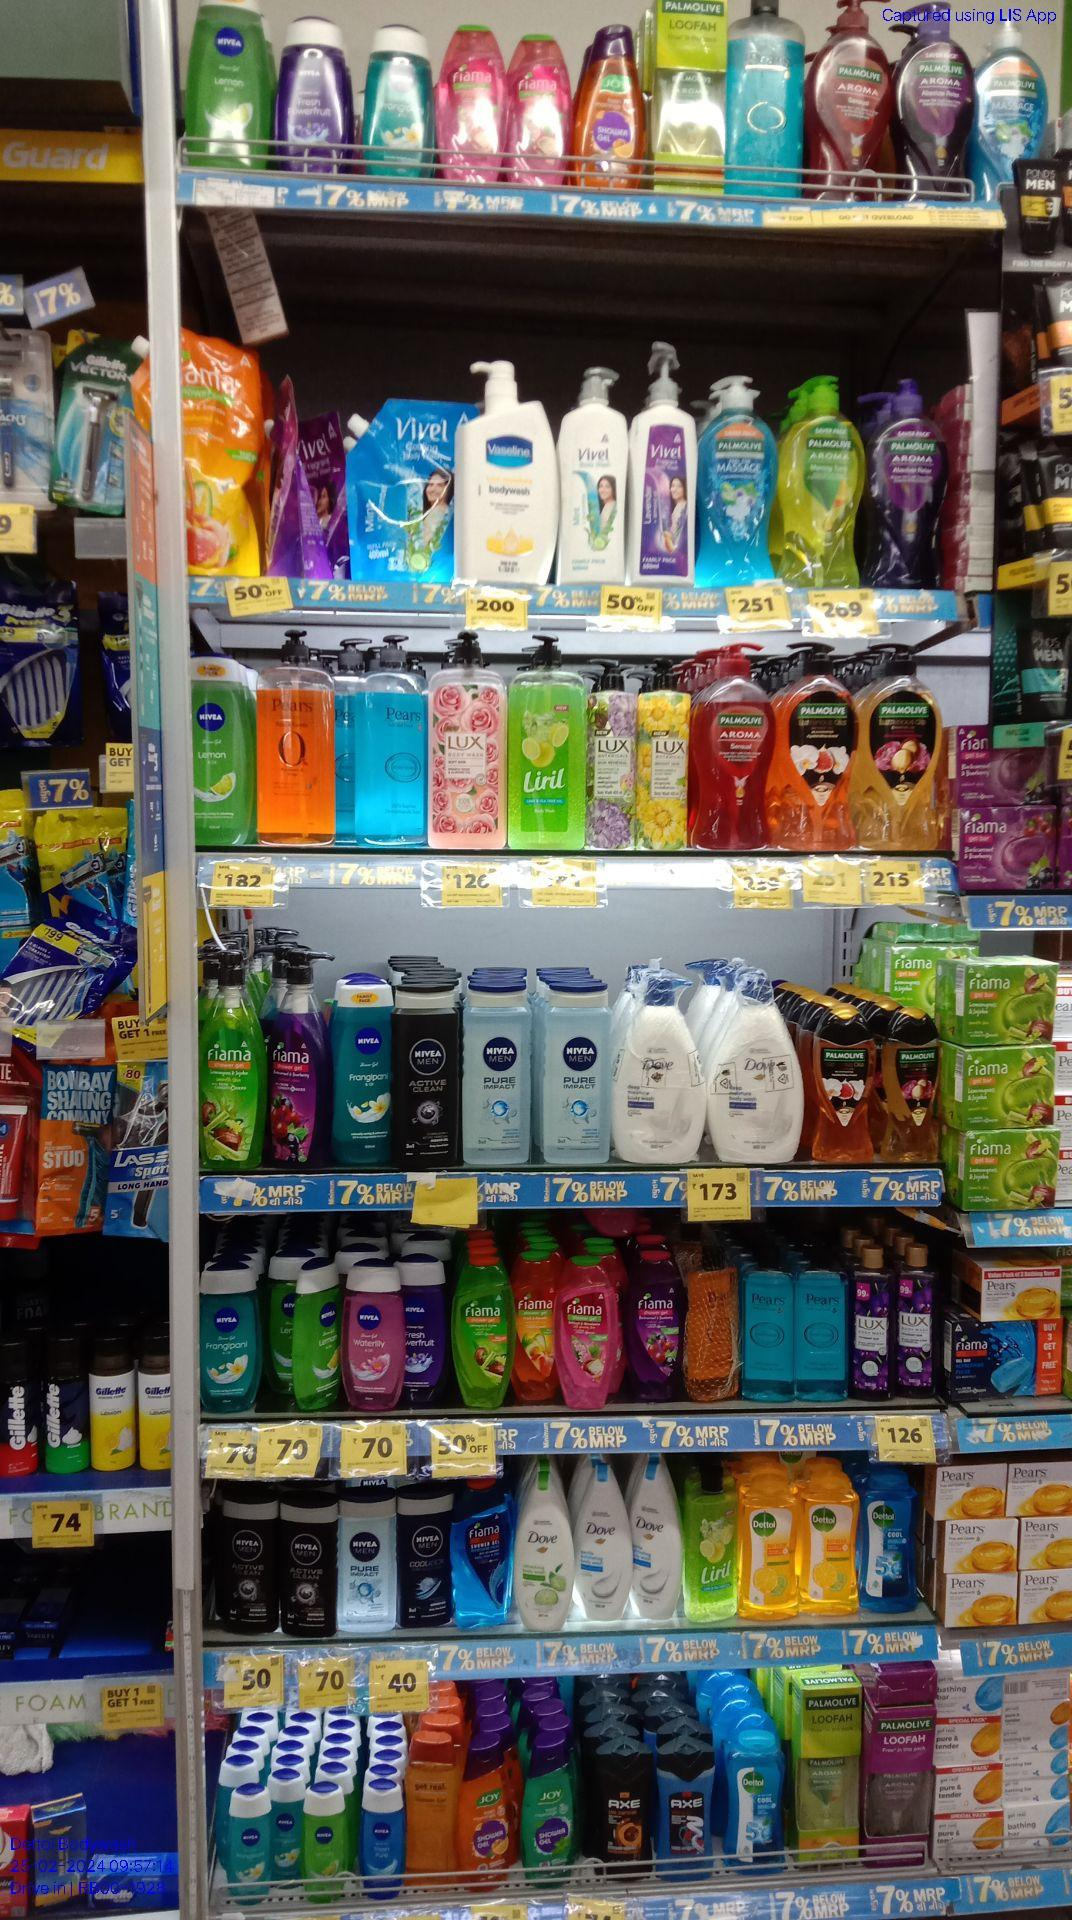Dettol_Bodywash_Cool: (730, 1733, 786, 1873), (862, 1472, 915, 1610)
Dettol_Bodywash_Refresh: (745, 1480, 802, 1622), (804, 1472, 857, 1617)
Dove_Gentle_Exfoliating_Body_Wash_250ML: (579, 1473, 632, 1621), (636, 1468, 680, 1621)
Dove_Refreshing_Body_Wash_250ML: (518, 1482, 574, 1631)
Fiama_Shower_Gel_Lemongrass_and_Jojoba_250ML: (455, 1262, 509, 1408)
Fiama_Shower_Gel_Patchouli_and_Macadamia_250ML: (506, 33, 572, 186), (439, 26, 504, 181), (551, 1259, 609, 1408)
Joy_Shower_Gel_Mandarin_and_Lemongrass_250ML: (580, 28, 645, 191)
Liril_Lime_and_Tea_Tree_Oil_Body_Wash_250ML: (686, 1469, 733, 1621)
Lux_Black_Orchid_Scent_and_Juniper_Oil_Body_Wash_245ML: (852, 1250, 895, 1400), (899, 1245, 936, 1400)
Nivea_Shower_Gel_Frangipani_and_Oil_250ML: (367, 24, 431, 181), (336, 985, 393, 1162), (200, 1266, 258, 1411)
Nivea_Shower_Gel_Fresh_Powerfruit_250ML: (277, 18, 345, 174)
Nivea_Shower_Gel_Lemon_and_Oil_250ML: (186, 0, 272, 167)
Nivea_Shower_Gel_Waterlily_and_Oil_250ML: (345, 1271, 401, 1407)
Palmolive_Luminous_Oils_Invigorating_Macadamia_Oil_With_Peony_250ML: (889, 1013, 941, 1166)
Palmolive_Luminous_Oils_With_White_Orchid_Shower_Gel_250ML: (815, 1015, 876, 1166)
